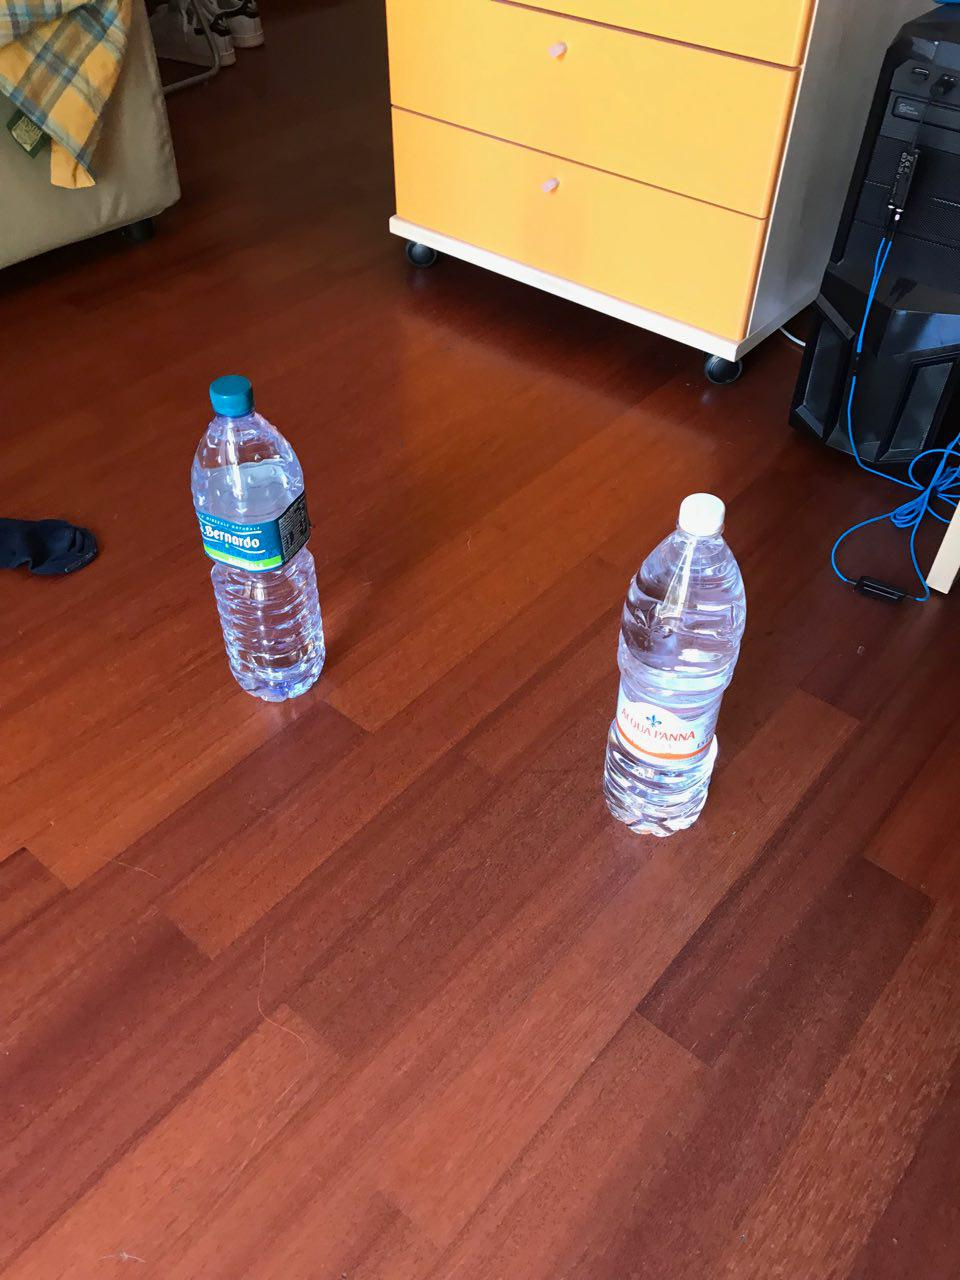san_bernardo: (188, 373, 327, 703)
